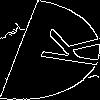K: (25, 25, 100, 69)
